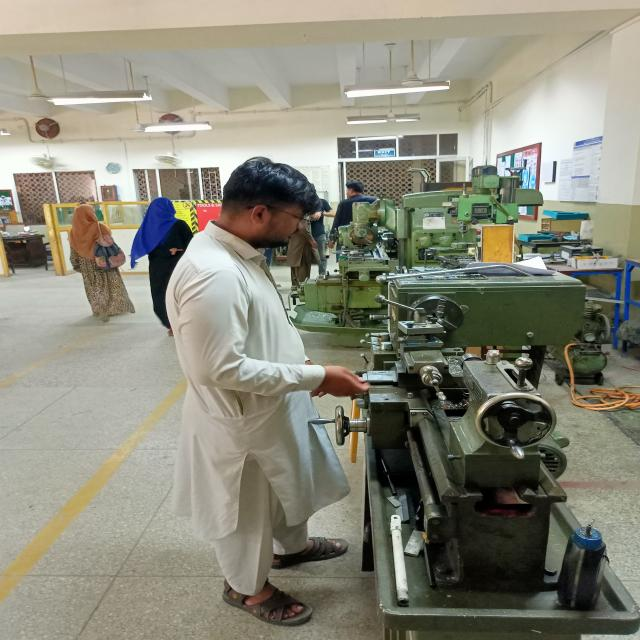dress: (159, 217, 352, 597), (128, 195, 198, 334), (65, 197, 133, 324), (332, 182, 379, 238)
